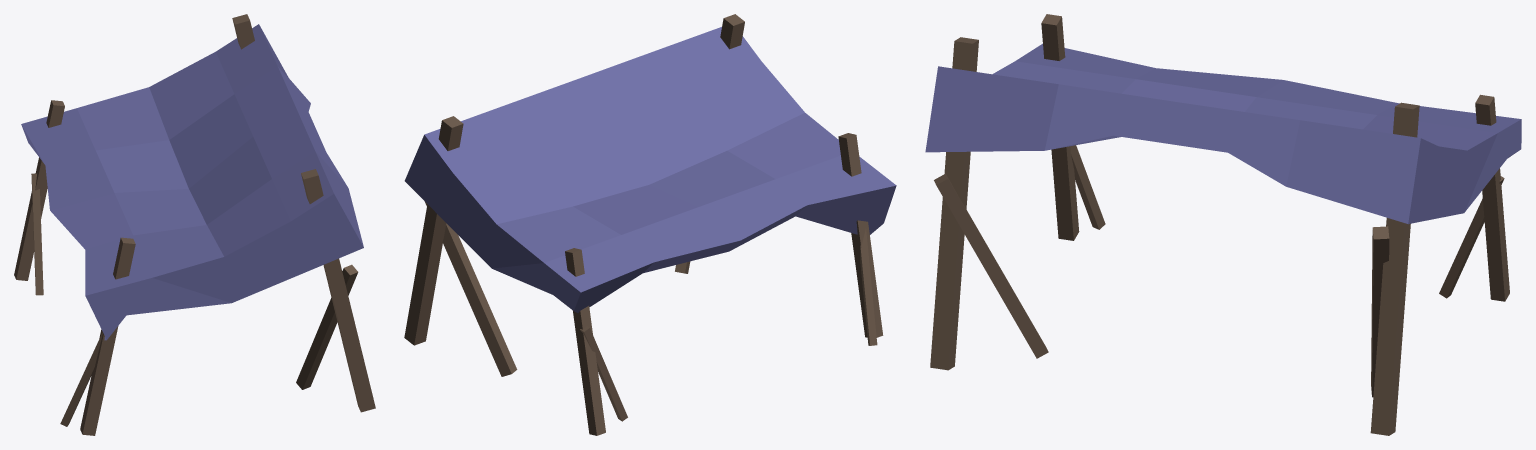
Rendered from tent_blue.glb.
The picture shows the model from 3 angles, left to right: view 1: azimuth 30°, elevation 25°; view 2: azimuth 150°, elevation 25°; view 3: azimuth 270°, elevation 25°; orthographic projection. The views are drawn at different scales.
Visible parts, largest first — view 1: Tent Yellow.199; view 2: Tent Yellow.199; view 3: Tent Yellow.199.
Part boxes in pixels (bbox=[...]): Tent Yellow.199: bbox=[14, 14, 375, 435]; Tent Yellow.199: bbox=[404, 14, 896, 435]; Tent Yellow.199: bbox=[925, 14, 1521, 435].
Bounding box in the file's own units: 0.1357 × 0.0915 × 0.1554.
